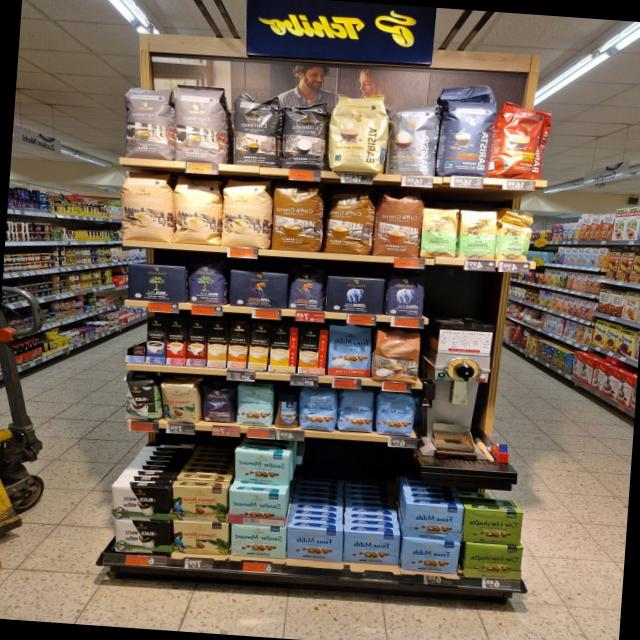AB Bohne: (385, 274, 426, 318)
AB Gemahlen: (324, 274, 386, 316)
Athiopien Bohne: (495, 222, 533, 263)
Athiopien Gemahlen: (419, 206, 458, 260), (458, 208, 497, 261)
BM Bohne: (186, 257, 226, 305)
BM Gemahlen: (124, 261, 186, 303)
BW Bohne: (120, 376, 156, 420)
BW Gemahlen: (108, 483, 172, 523), (112, 517, 172, 555)
Barista CB: (327, 89, 388, 173)
Barista CC: (384, 100, 439, 176)
Barista Espresso: (434, 96, 498, 178)
Barista Kolumbien: (488, 102, 556, 181)
C Fino Bohne: (200, 382, 234, 424)
CC Mild: (118, 168, 174, 242), (220, 174, 274, 250), (172, 174, 222, 246)
CC Vollmundig: (369, 328, 422, 384)
CC Vollmundig 36 Pads: (270, 180, 324, 252), (322, 187, 374, 255), (372, 190, 423, 258)
Colombia BB Bohne: (158, 378, 198, 424)
Colombia BB Gemahlen: (169, 482, 228, 522), (170, 518, 228, 557)
Espresso Aromatisch: (169, 80, 228, 163), (120, 82, 173, 160)
Espresso S Art: (230, 93, 283, 166), (280, 96, 328, 172)
FM 36 Pads: (326, 322, 372, 377)
FM Bohne: (374, 390, 416, 436), (298, 387, 338, 431), (337, 388, 375, 432)
FM Gemahlen: (401, 503, 464, 541), (399, 538, 461, 575), (342, 530, 401, 566), (285, 526, 344, 562)
FM Instant: (273, 392, 298, 428)
Herzhatfe Mundig: (462, 541, 524, 581), (462, 508, 523, 546)
LG Bohne: (286, 264, 324, 312)
LG Gemahlen: (227, 268, 288, 310)
SM Bohne: (234, 382, 274, 426)
SM Gemahlen: (226, 489, 285, 527), (232, 449, 290, 486), (230, 522, 286, 559)
Simo CCMild: (268, 326, 298, 374)
Simo CCMild bigpack: (247, 324, 270, 372)
Simo CCVollmundig: (297, 328, 328, 376)
Simo CCVollmundig bigpack: (226, 322, 249, 369)
Simo Decaff: (206, 321, 228, 368)
Simo Es Brazil: (165, 317, 187, 365)
Simo Es Caramel: (185, 319, 208, 367)
Simo Es Kraft: (144, 316, 167, 364)
